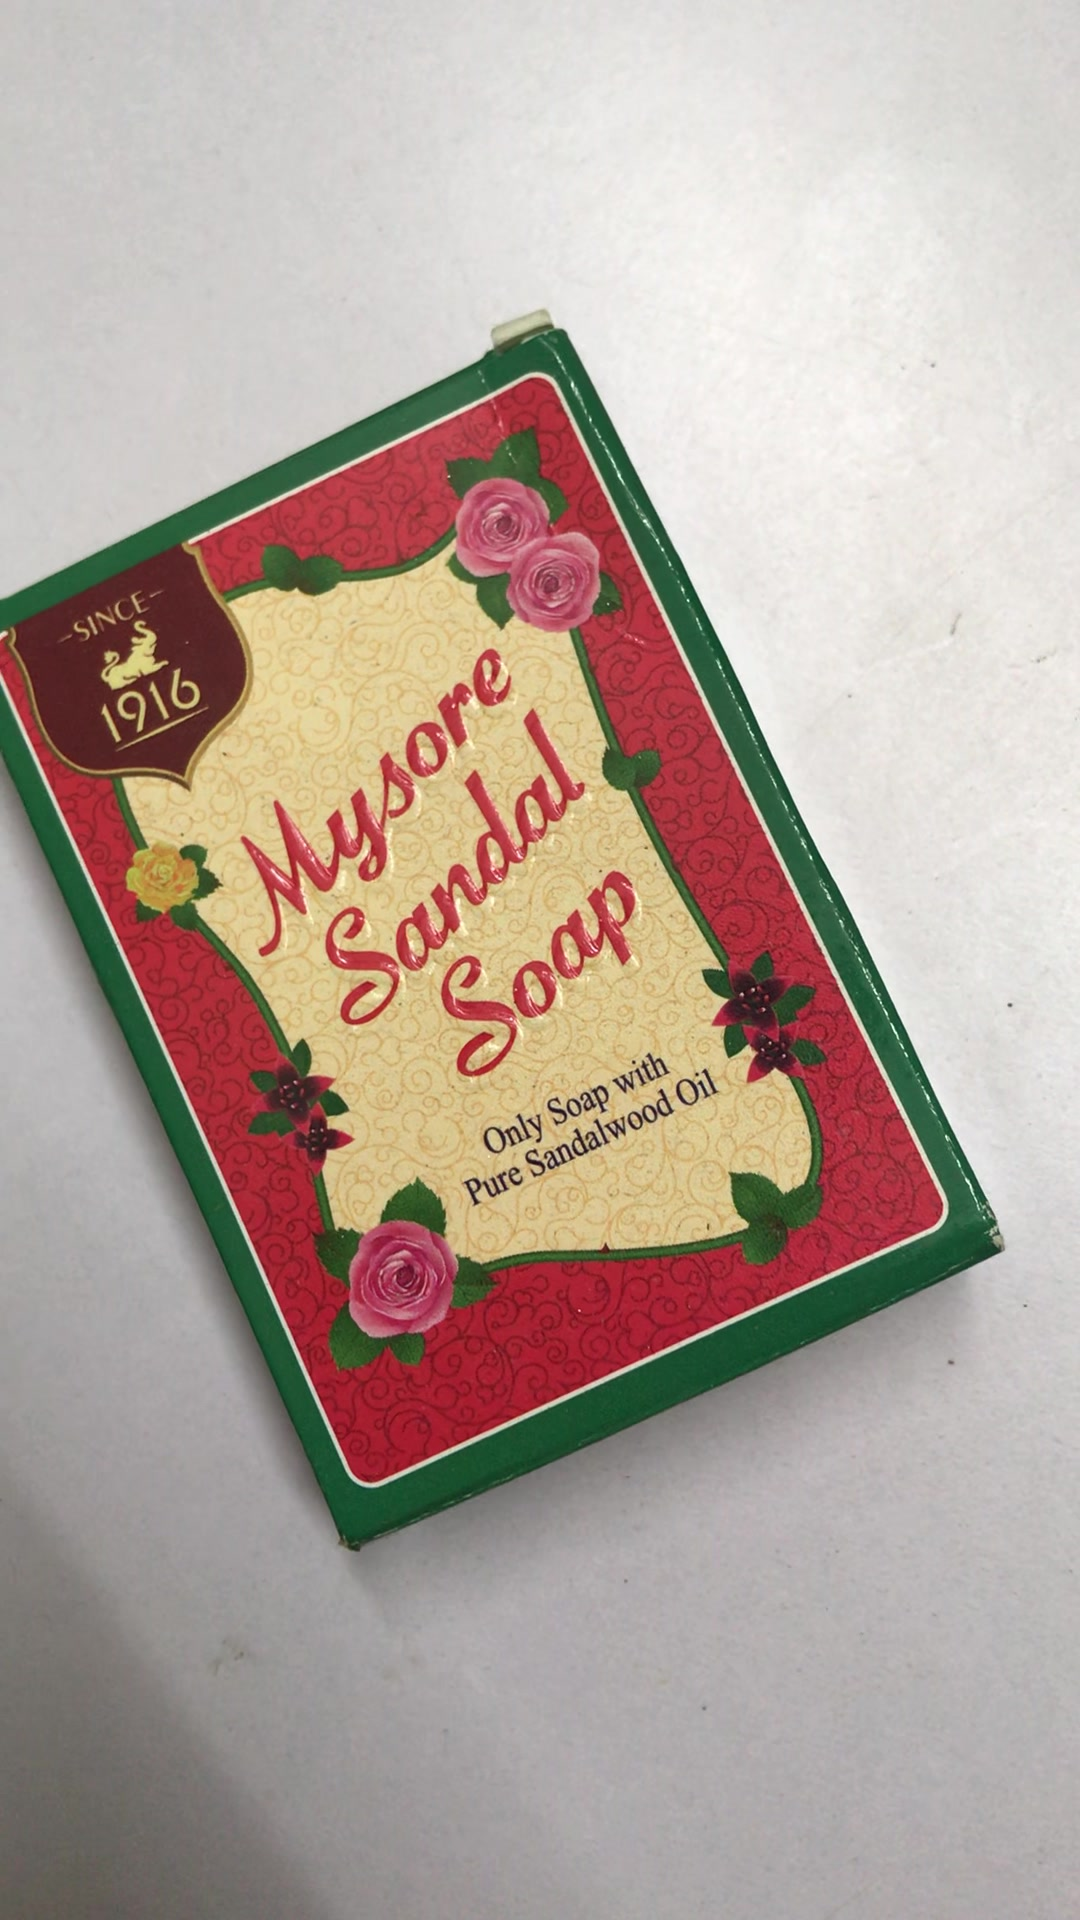mysore sandal soap: (7, 323, 1000, 1548)
